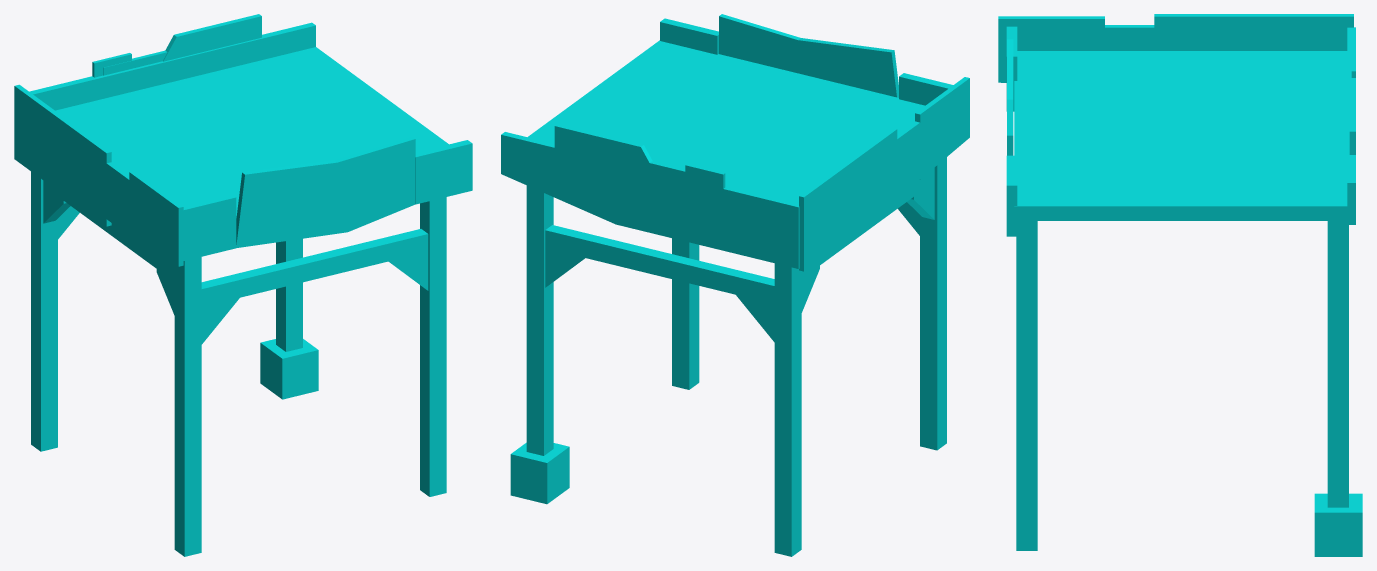
Rendered from SM_Bld_Carport_01_Collision.fbx.
3 views of the same model, side by side, from view 1: azimuth 30°, elevation 25°; view 2: azimuth 150°, elevation 25°; view 3: azimuth 270°, elevation 25° (orthographic). The views are drawn at different scales.
Parts seen in each view (by area): view 1: SM_Bld_Carport_01_Collision; view 2: SM_Bld_Carport_01_Collision; view 3: SM_Bld_Carport_01_Collision.
Part boxes in pixels (box(x1,y1,x2,y2)): SM_Bld_Carport_01_Collision: box(14, 14, 472, 556); SM_Bld_Carport_01_Collision: box(501, 14, 969, 556); SM_Bld_Carport_01_Collision: box(998, 14, 1362, 556).
Size of the model in its own units: 780 by 930 by 760.
